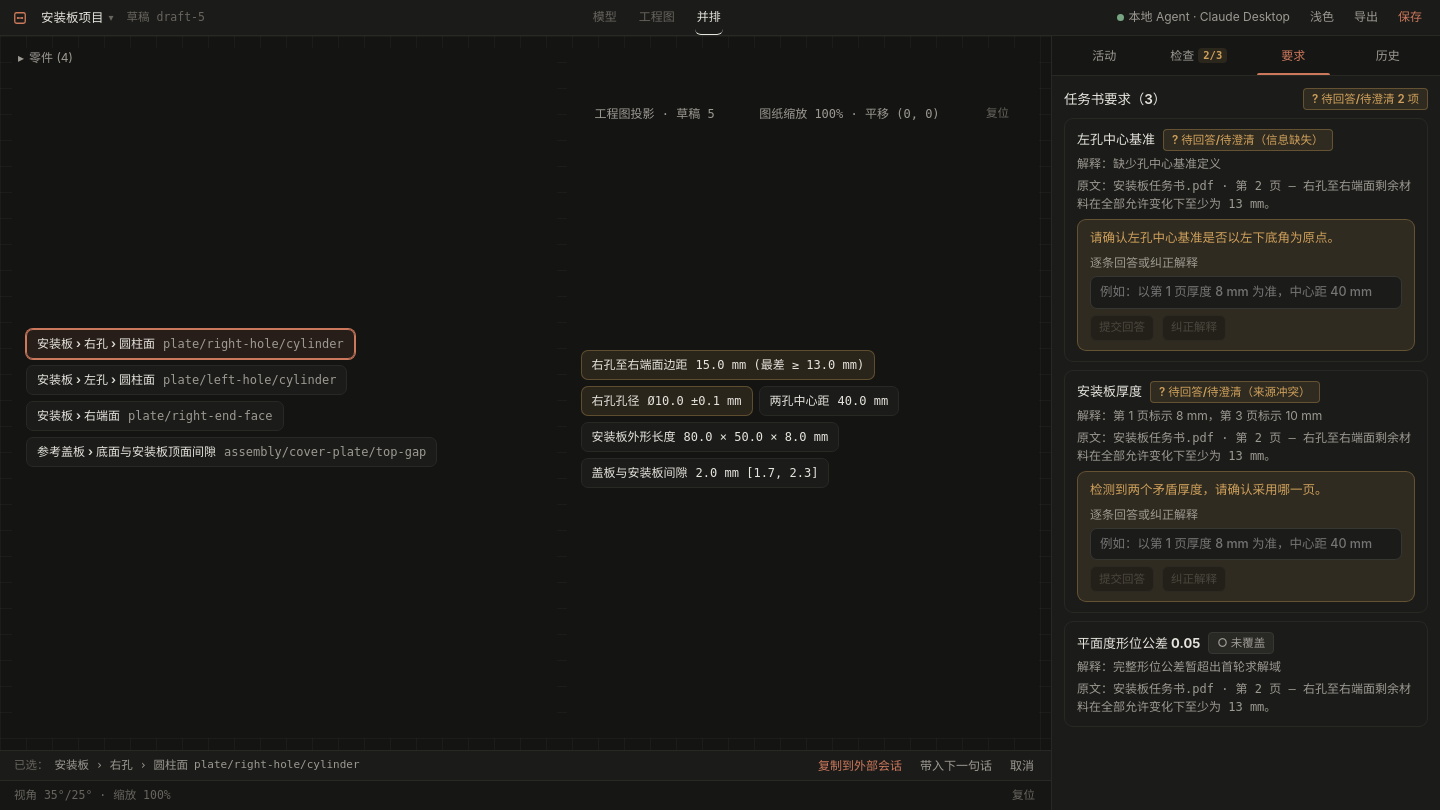
M3-FE-02：A01–A12 全链路前端验收走查 › A07（缺项/冲突/未覆盖任务澄清 + 断线保留结果、焦点落到「重连」、接管推进代际拒绝旧包）
Expected: the text "? 待回答/待澄清（信息缺失）" is shown, [1163, 129, 1332, 151]
Expected: the text "? 待回答/待澄清（来源冲突）" is shown, [1150, 381, 1320, 403]
Type "以第 1 页厚度 8 mm 为准" into the field named "回答或纠正 安装板厚度". click: [1246, 544]
box: [1090, 528, 1402, 560]
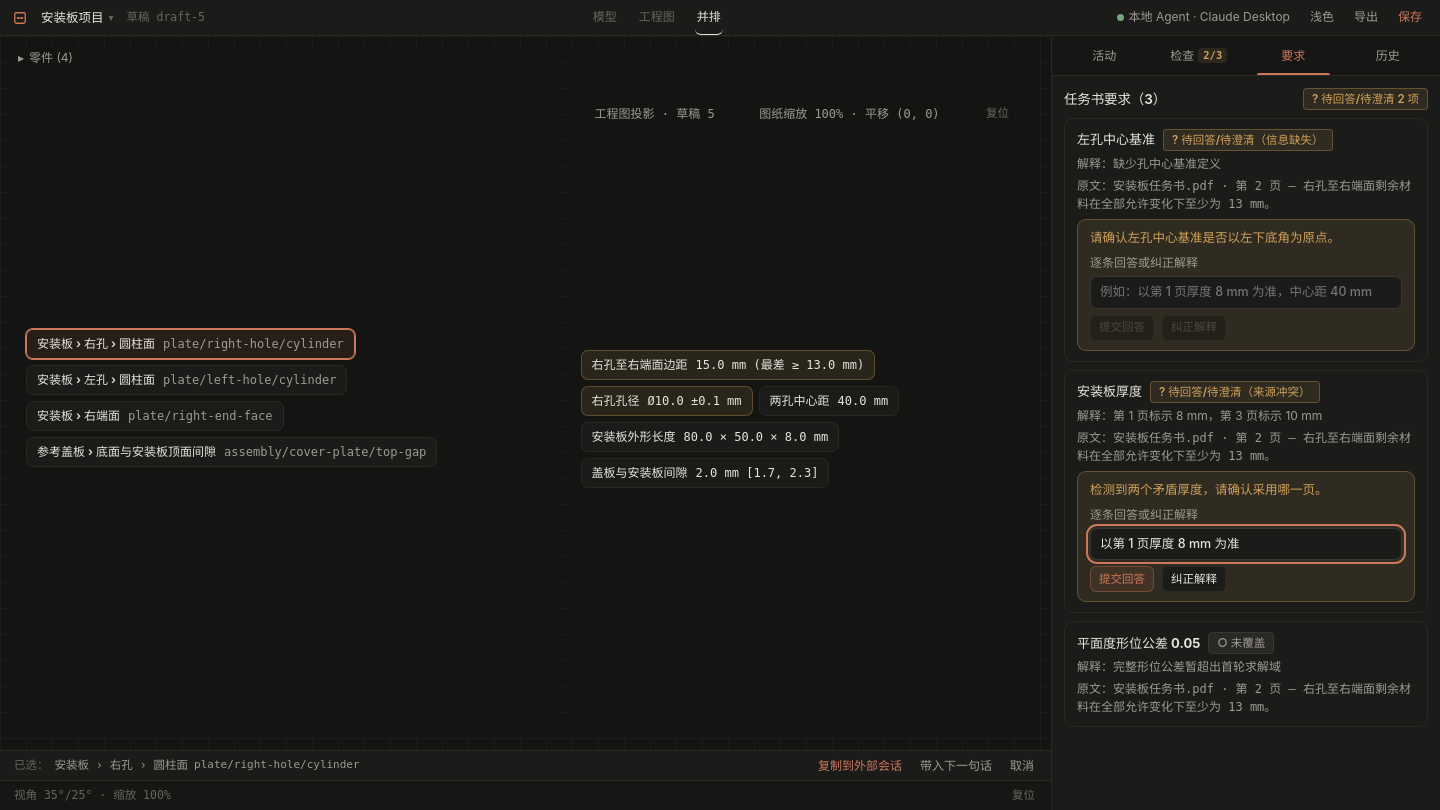
Click the button "提交回答" below "检测到两个矛盾厚度，请确认采用哪一页。". click: [1122, 579]
box: [1090, 566, 1154, 592]
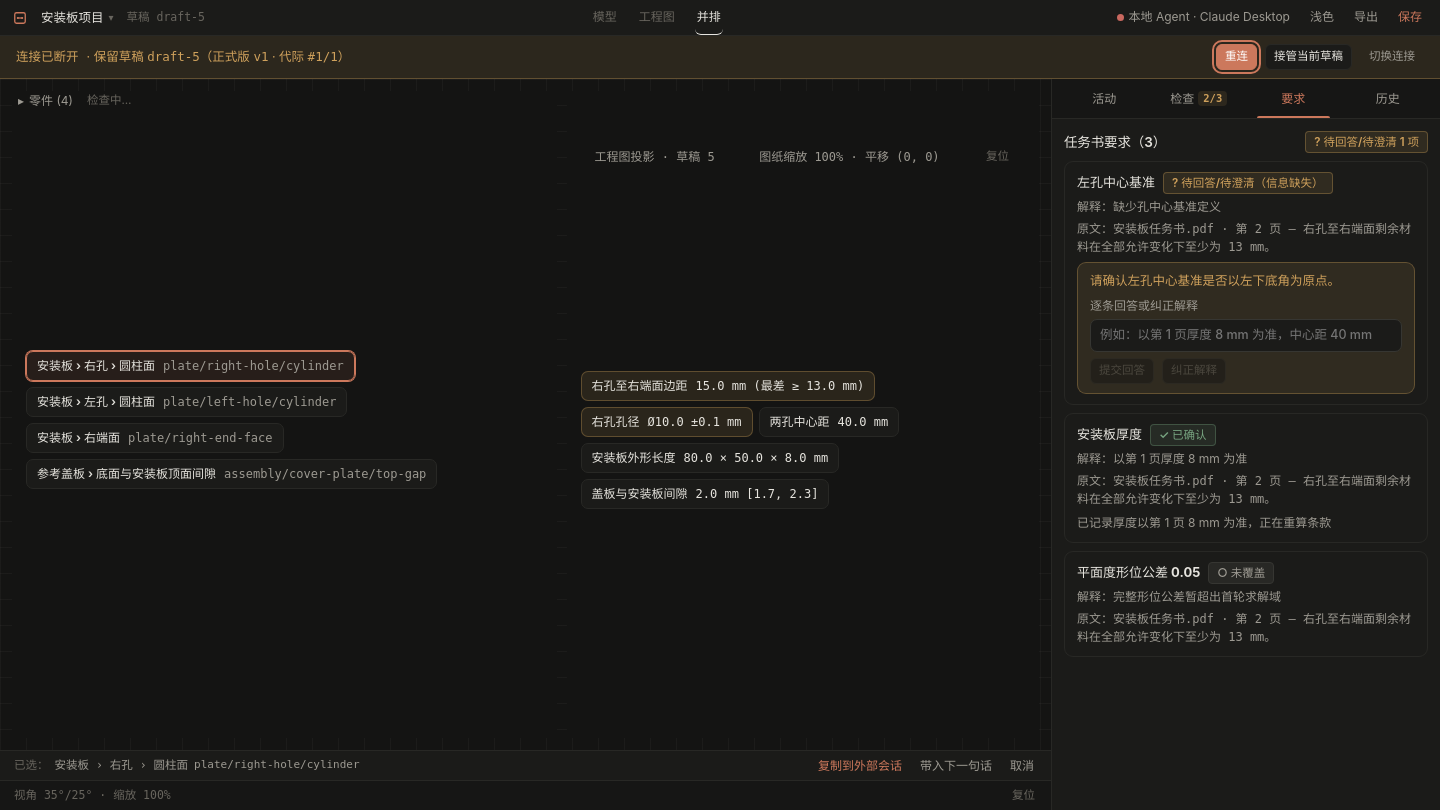
Expected: the header named "顶部连接状态栏" shows "草稿 draft-5", [126, 10, 205, 24]
Now the text "已记录厚度以第 1 页 8 mm 为准，正在重算条款" is shown, box [1077, 515, 1331, 530]
Click the button "接管当前草稿". click: [1308, 57]
box: [1265, 44, 1352, 70]
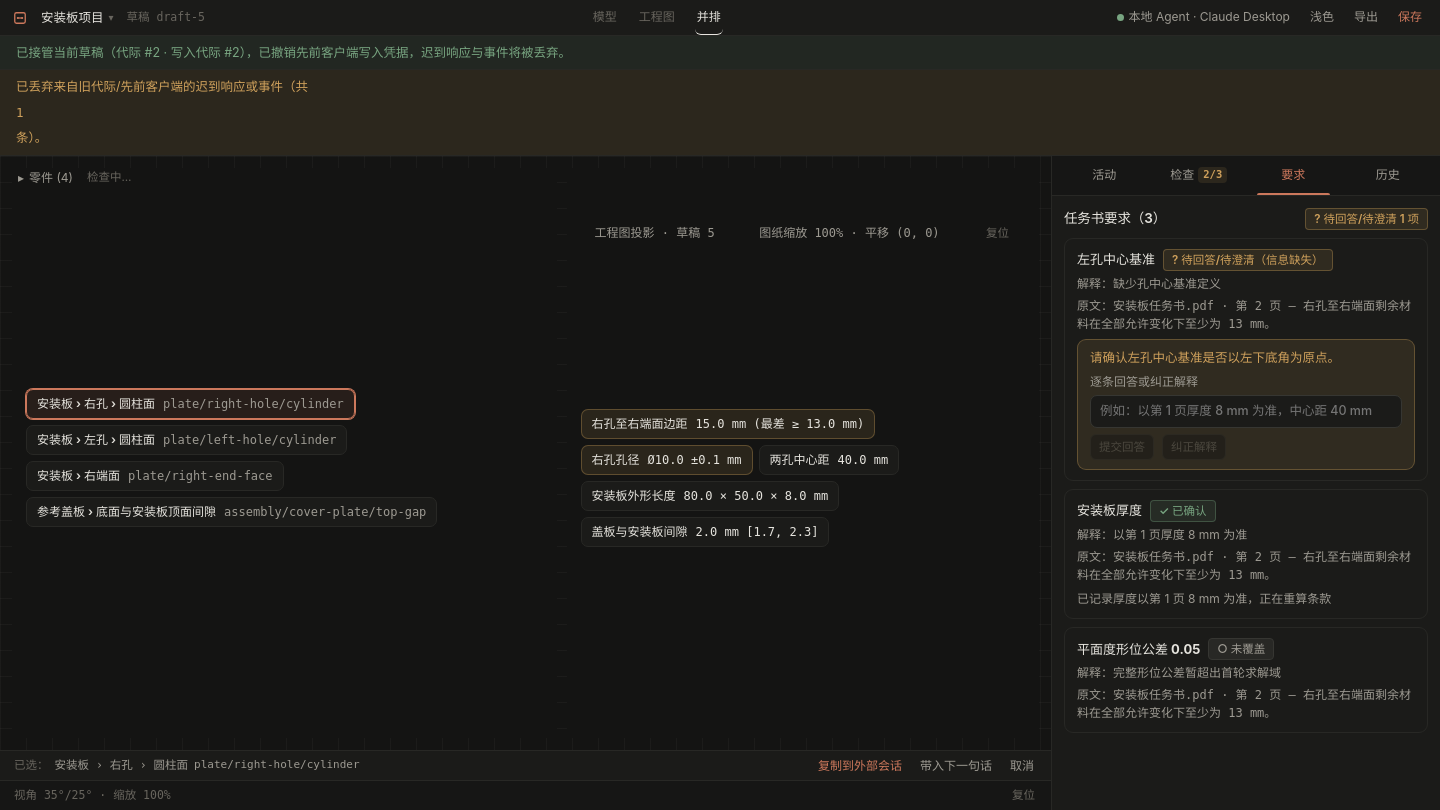
Expected: the header named "顶部连接状态栏" shows "草稿 draft-5", [126, 10, 205, 24]
Now the text "已接管当前草稿（代际 #2 · 写入代际 #2），已撤销先前客户端写入凭据，迟到响应与事件将被丢弃。" is shown, box [16, 45, 571, 60]
Now the text "已丢弃来自旧代际/先前客户端的迟到响应或事件（共 1 条）。" is shown, box [0, 70, 1439, 156]
